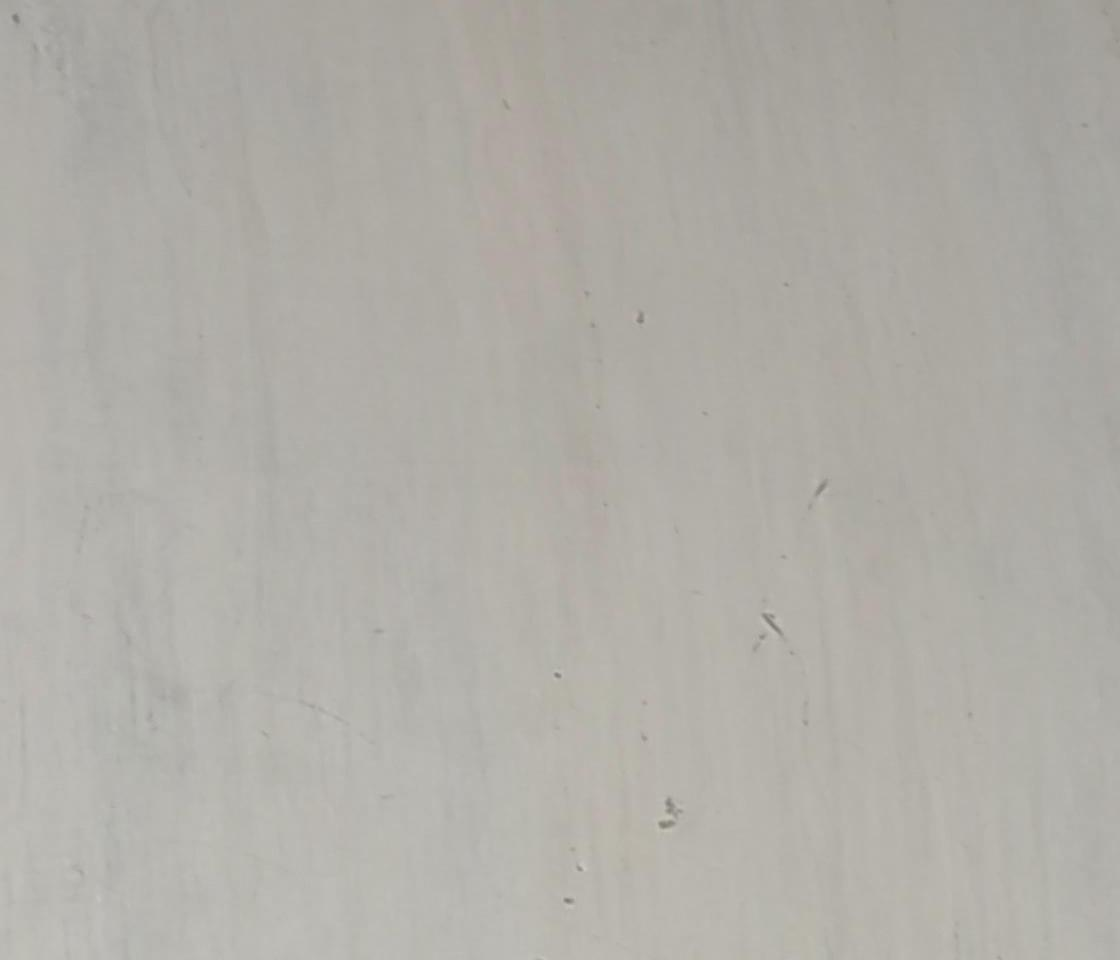scratch: (755, 602, 788, 650)
